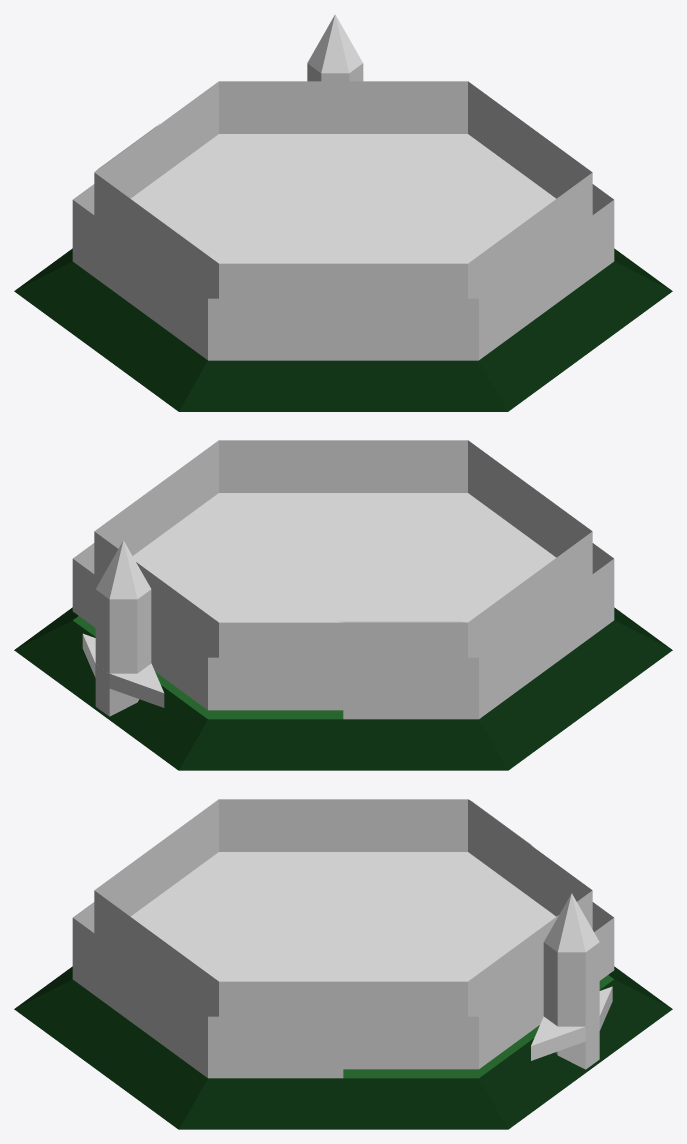
The model's file is Attack.glb.
The picture shows the model from 3 angles, top to bottom: view 1: azimuth 30°, elevation 25°; view 2: azimuth 150°, elevation 25°; view 3: azimuth 270°, elevation 25°; orthographic projection.
Visible parts, largest first — view 1: Cylinder, Circle, Cylinder.001; view 2: Cylinder, Circle, Cylinder.001; view 3: Cylinder, Circle, Cylinder.001.
Part boxes in pixels (x1,y1,x2,y2): Cylinder: (72, 81, 614, 360); Circle: (14, 248, 672, 411); Cylinder.001: (307, 14, 363, 81); Cylinder: (72, 440, 614, 719); Circle: (14, 607, 672, 770); Cylinder.001: (82, 540, 164, 716); Cylinder: (72, 799, 614, 1078); Circle: (14, 966, 672, 1129); Cylinder.001: (531, 893, 612, 1069).
Bounding box in the file's own units: 1.73 × 0.5619 × 2.
